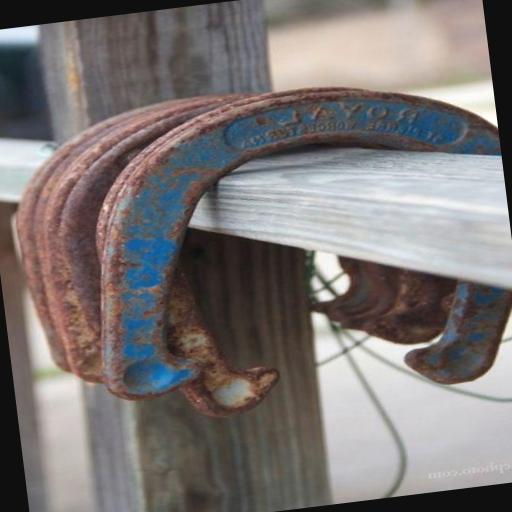segmentation: (18, 89, 357, 416), (18, 93, 264, 377), (313, 257, 457, 343), (288, 87, 500, 139)
